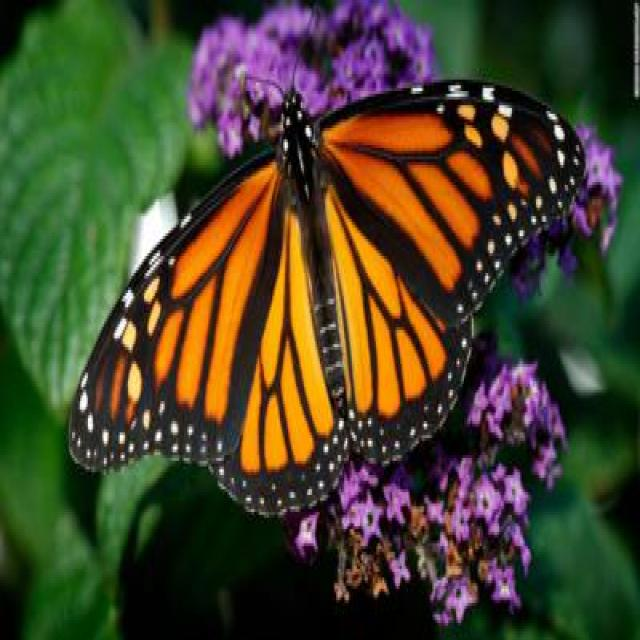body: (278, 92, 347, 422)
insect: (68, 20, 586, 518)
wings: (316, 79, 586, 463), (69, 147, 347, 519)
